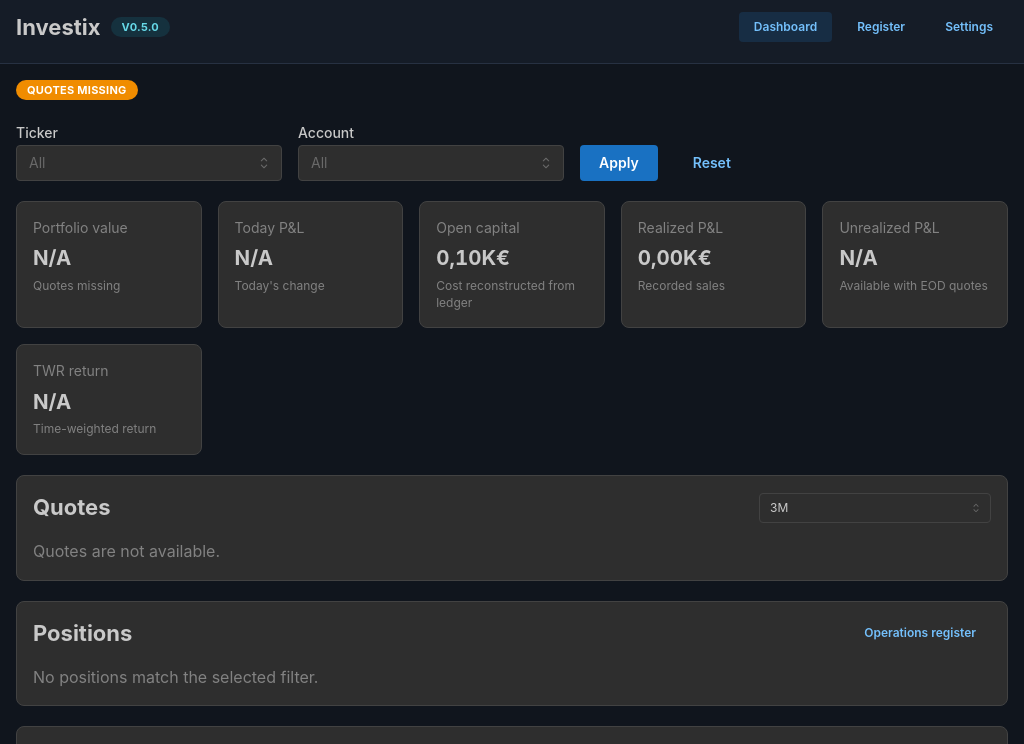
it: App › shows correction and cancellation actions in the register
Expected: the heading "Quotes" is shown, left=33, top=492, right=111, bottom=523
Click the button "Register".
click(881, 27)  # box left=842, top=12, right=920, bottom=42
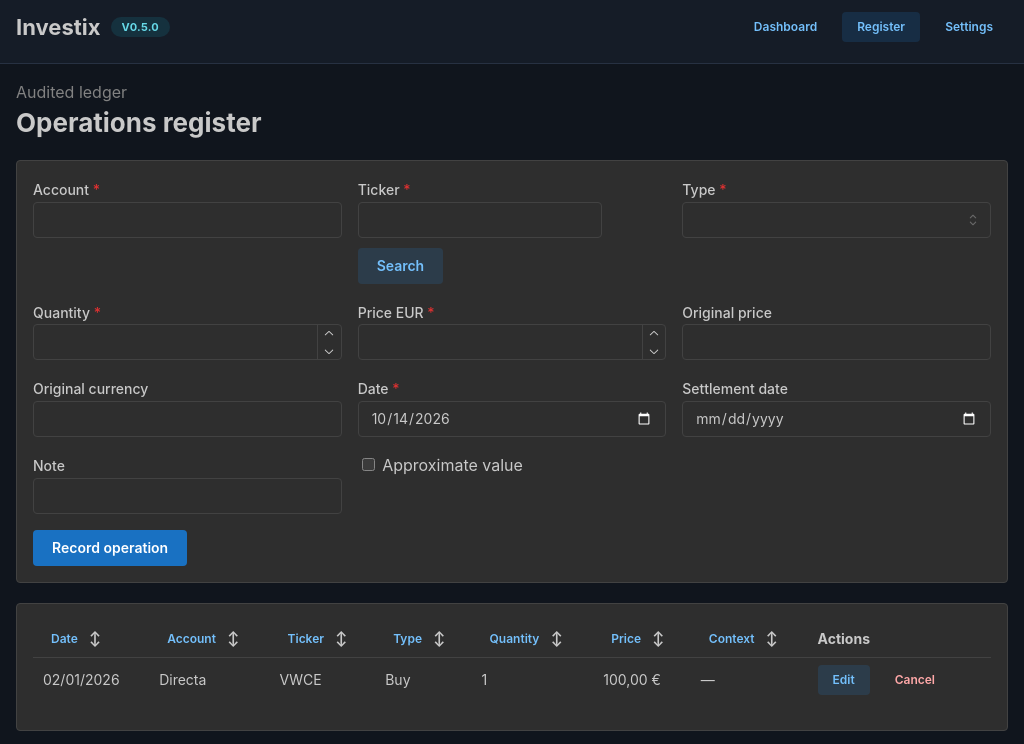
Expected: the button "Edit" is shown, left=818, top=665, right=870, bottom=695
Expected: the button "Cancel" is shown, left=880, top=665, right=950, bottom=695
